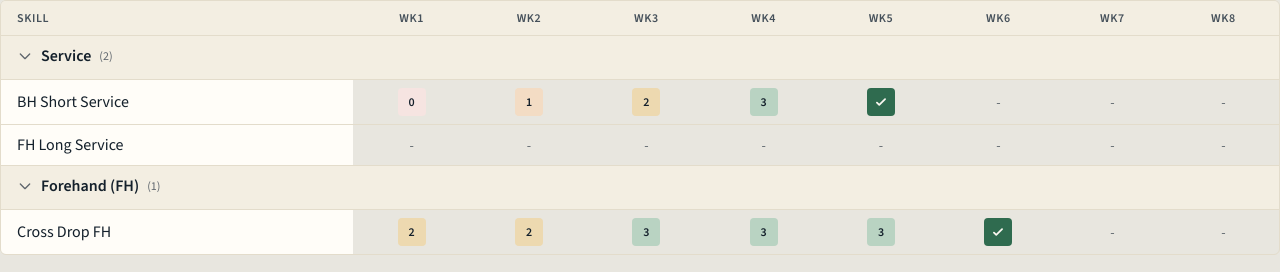
Test: SkillProgressHeatmap › hides tooltip on mouse leave
This screenshot has width=1280, height=272.
Hover over the button with test id "score-cell-bh-short-service-wk3" at [646, 102], box left=632, top=88, right=660, bottom=116
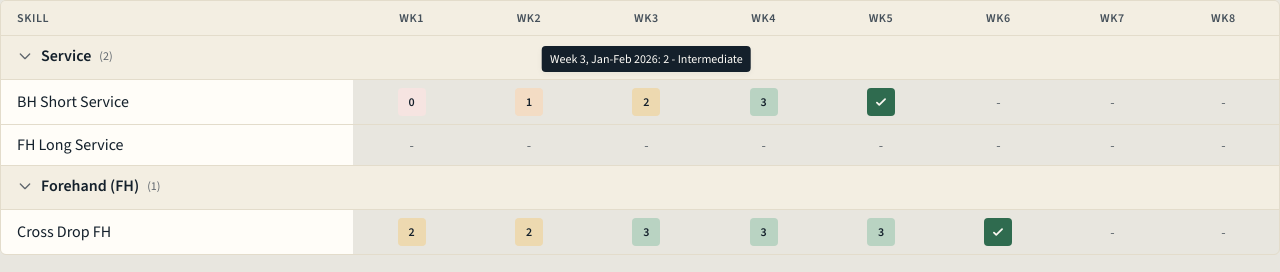
Expected: the tooltip with test id "tooltip-bh-short-service-wk3" is shown, left=542, top=46, right=751, bottom=72
Move the pointer off the button with test id "score-cell-bh-short-service-wk3", box left=632, top=88, right=660, bottom=116
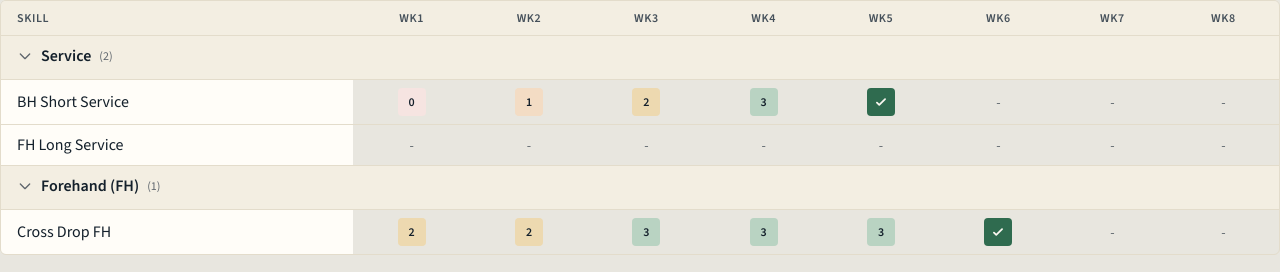
Expected: the tooltip with test id "tooltip-bh-short-service-wk3" is gone
